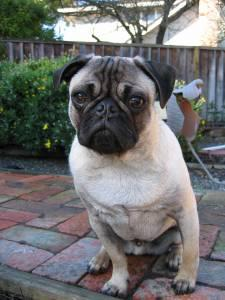dog-pug: (51, 52, 174, 152)
